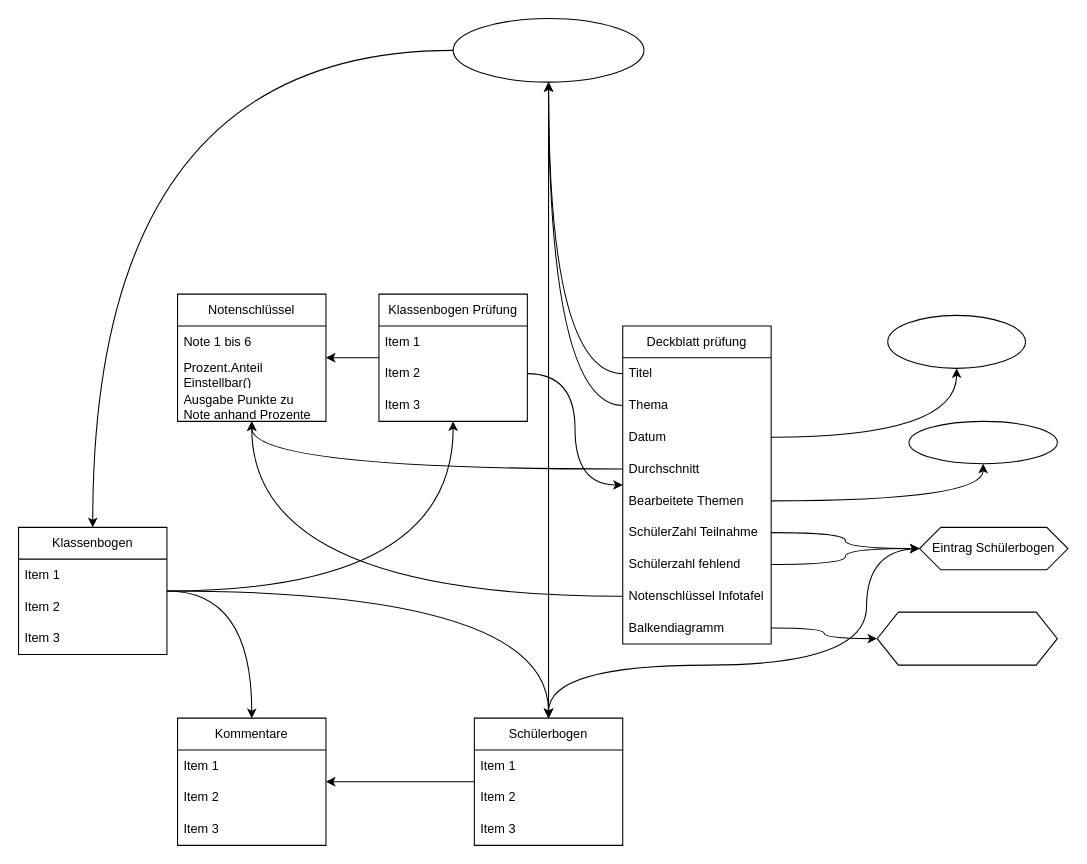
The diagram is 1087 pixels wide and 864 high, and some of its shapes have lost their labels. Here are the shapes that lost their labels. From the top down, the centre of each, then its label:
the point at 548,49: Eintrag Klassenbogen & Schülerbogen
the point at 956,341: Kalender view
the point at 982,442: Dropdown & Freifeld
the point at 966,638: Ausgabe: Noten als Säulen Darunter %
